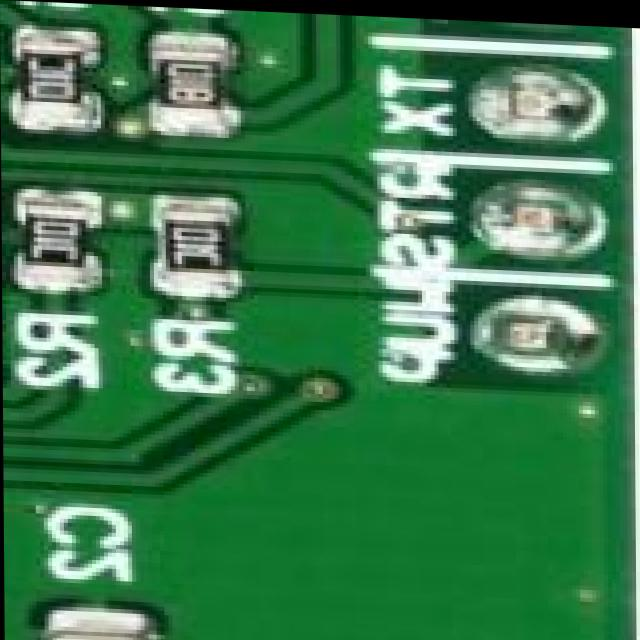capacitor: (44, 629, 160, 640)
resistor: (140, 27, 231, 128), (157, 203, 238, 300), (24, 31, 91, 139), (29, 203, 96, 295)
